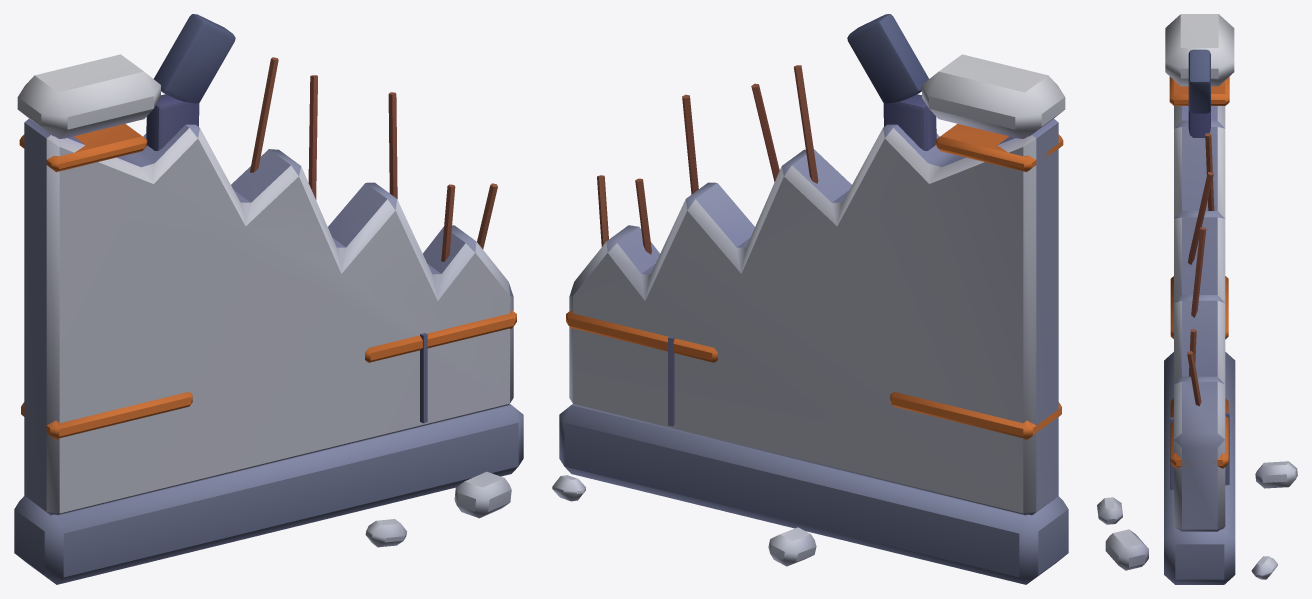
Rendered from hub_ruin_wall_broken.glb.
3 renders of one model, left to right at view 1: azimuth 30°, elevation 25°; view 2: azimuth 150°, elevation 25°; view 3: azimuth 270°, elevation 25°, orthographic. The views are drawn at different scales.
Parts seen in each view (by area): view 1: hub_ruin_wall_broken; view 2: hub_ruin_wall_broken; view 3: hub_ruin_wall_broken.
Boxes of the visible parts, left/top/right/bottom form: hub_ruin_wall_broken: left=14, top=14, right=523, bottom=584; hub_ruin_wall_broken: left=552, top=14, right=1068, bottom=584; hub_ruin_wall_broken: left=1097, top=14, right=1297, bottom=584.
Size of the model in its own units: 4 by 4.16 by 1.8.
